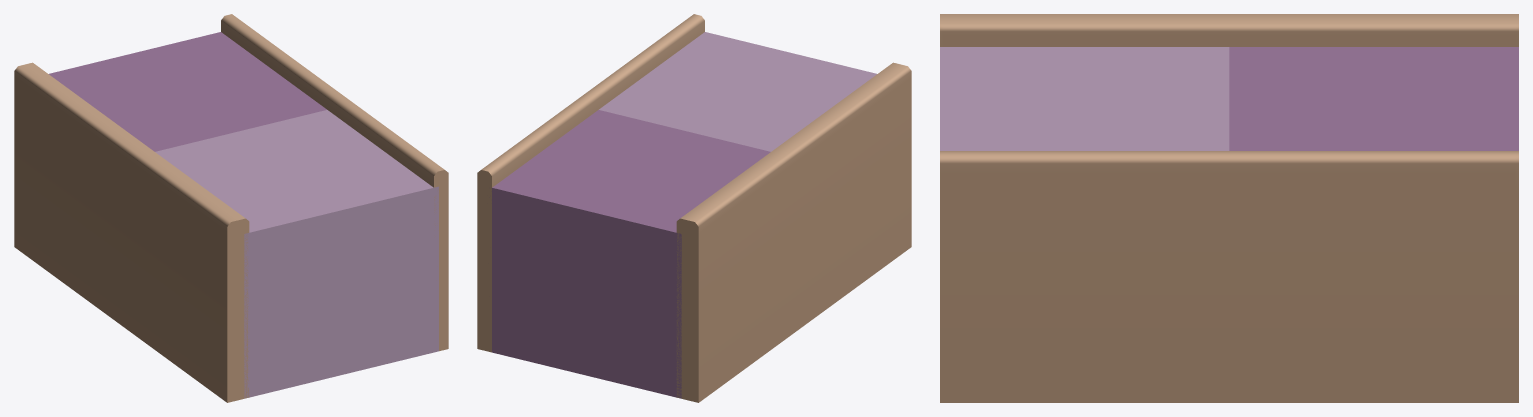
File: LuffyRoad_Straight3.fbx
3 views of the same model, side by side, from view 1: azimuth 30°, elevation 25°; view 2: azimuth 150°, elevation 25°; view 3: azimuth 270°, elevation 25° (orthographic). The views are drawn at different scales.
Visible parts, largest first — view 1: LUFFY_Road_straight6, LUFFY_Road_straight3, LUFFY_Road_straight5, LUFFY_Road_straight4; view 2: LUFFY_Road_straight5, LUFFY_Road_straight3, LUFFY_Road_straight6, LUFFY_Road_straight4; view 3: LUFFY_Road_straight4, LUFFY_Road_straight5, LUFFY_Road_straight6, LUFFY_Road_straight3.
Part boxes in pixels (<box>): LUFFY_Road_straight6: <box>155,110,438,398</box>; LUFFY_Road_straight3: <box>14,62,249,402</box>; LUFFY_Road_straight5: <box>49,32,326,151</box>; LUFFY_Road_straight4: <box>221,14,448,351</box>; LUFFY_Road_straight5: <box>489,110,770,398</box>; LUFFY_Road_straight3: <box>676,62,911,402</box>; LUFFY_Road_straight6: <box>599,32,876,151</box>; LUFFY_Road_straight4: <box>477,14,704,352</box>; LUFFY_Road_straight4: <box>940,151,1518,402</box>; LUFFY_Road_straight5: <box>1229,47,1518,150</box>; LUFFY_Road_straight6: <box>940,47,1229,150</box>; LUFFY_Road_straight3: <box>940,14,1518,46</box>.
Size of the model in its own units: 300 by 233 by 500.
